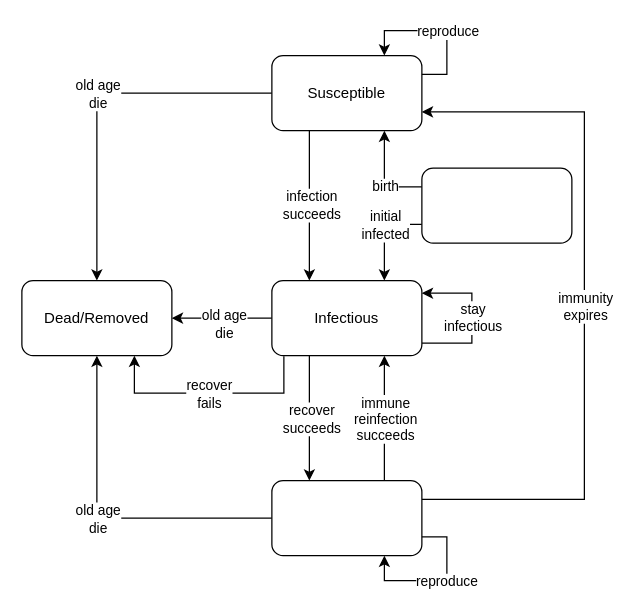
This 634x613 diagram has some shape labels left out. Each missing label, with the centre of its shape:
Immune: [346,517]
Initial: [496,205]
